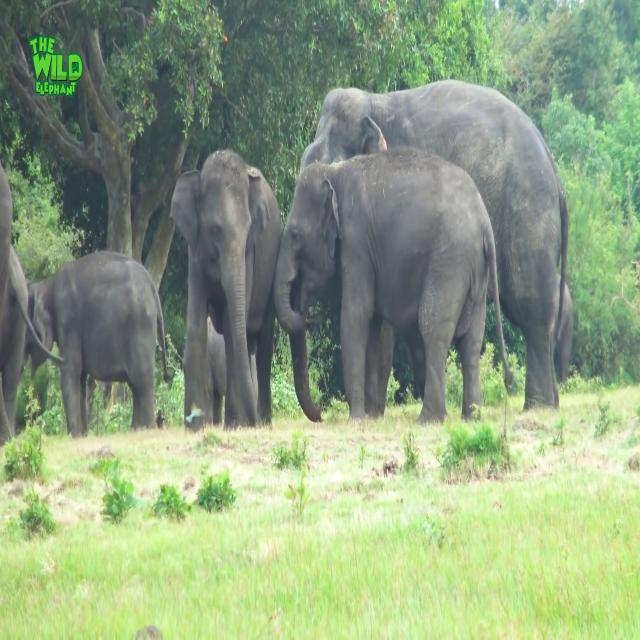Elephant: (272, 145, 516, 426), (169, 148, 283, 432), (22, 248, 172, 438), (0, 160, 65, 447)
